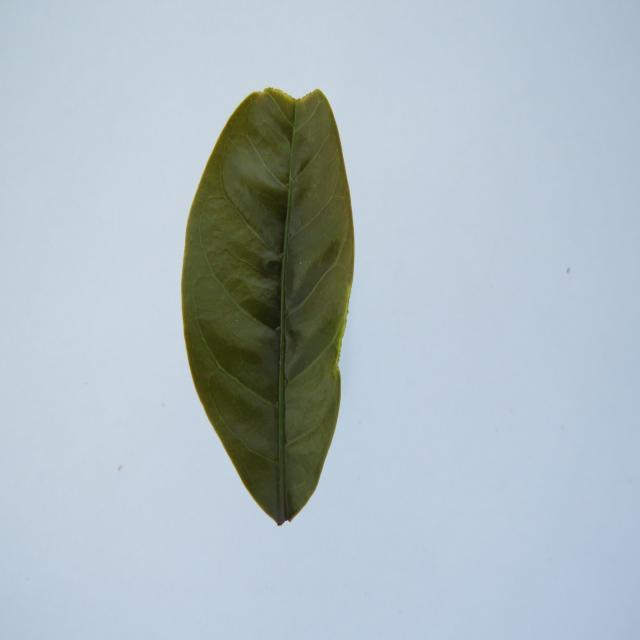DeficienciaNutricional-Boro: (181, 88, 354, 525)
